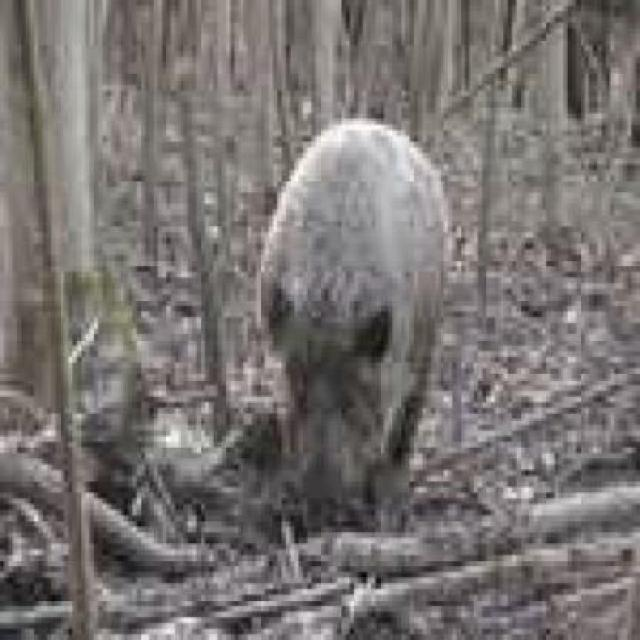Boar: (191, 97, 492, 551)
